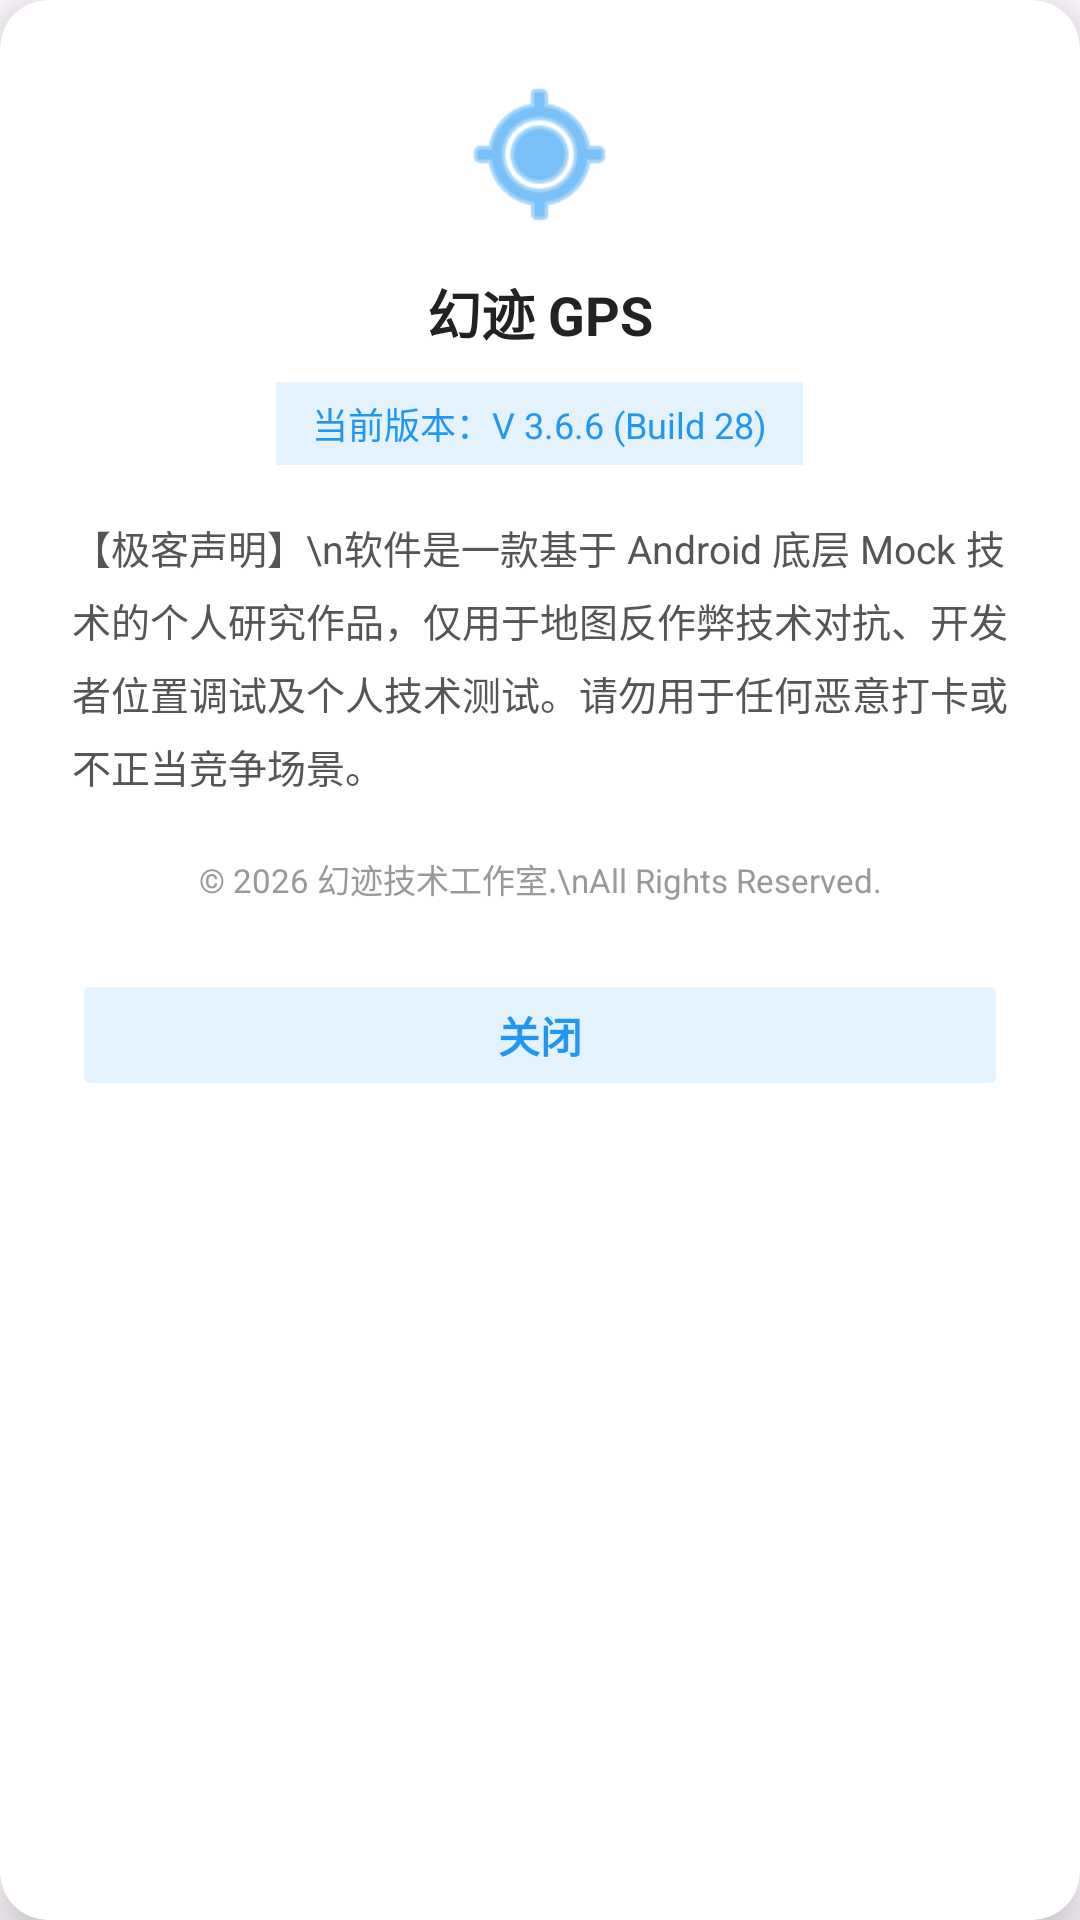

Screen size 1080w x 1920h. Icon name, then its box in pixels as (x1, y1, x2, y2):
mylocation: (473, 88, 606, 221)
